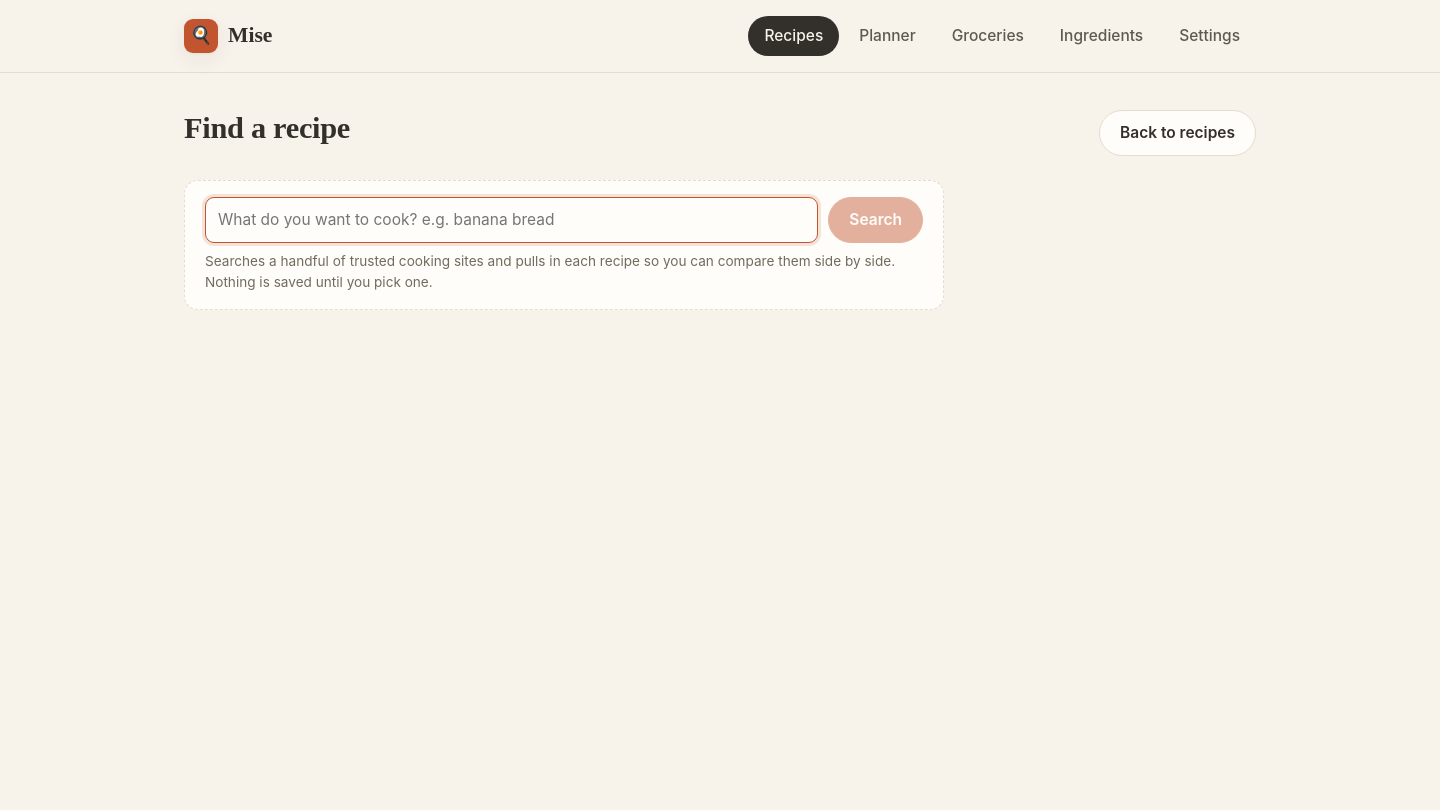
Test: RecipeSearchPage › dashes out stats the source page never stated
Type "banana bread" into the field with placeholder "What do you want to cook? e.g. banana bread". click: (512,220)
box: [205,197,818,243]
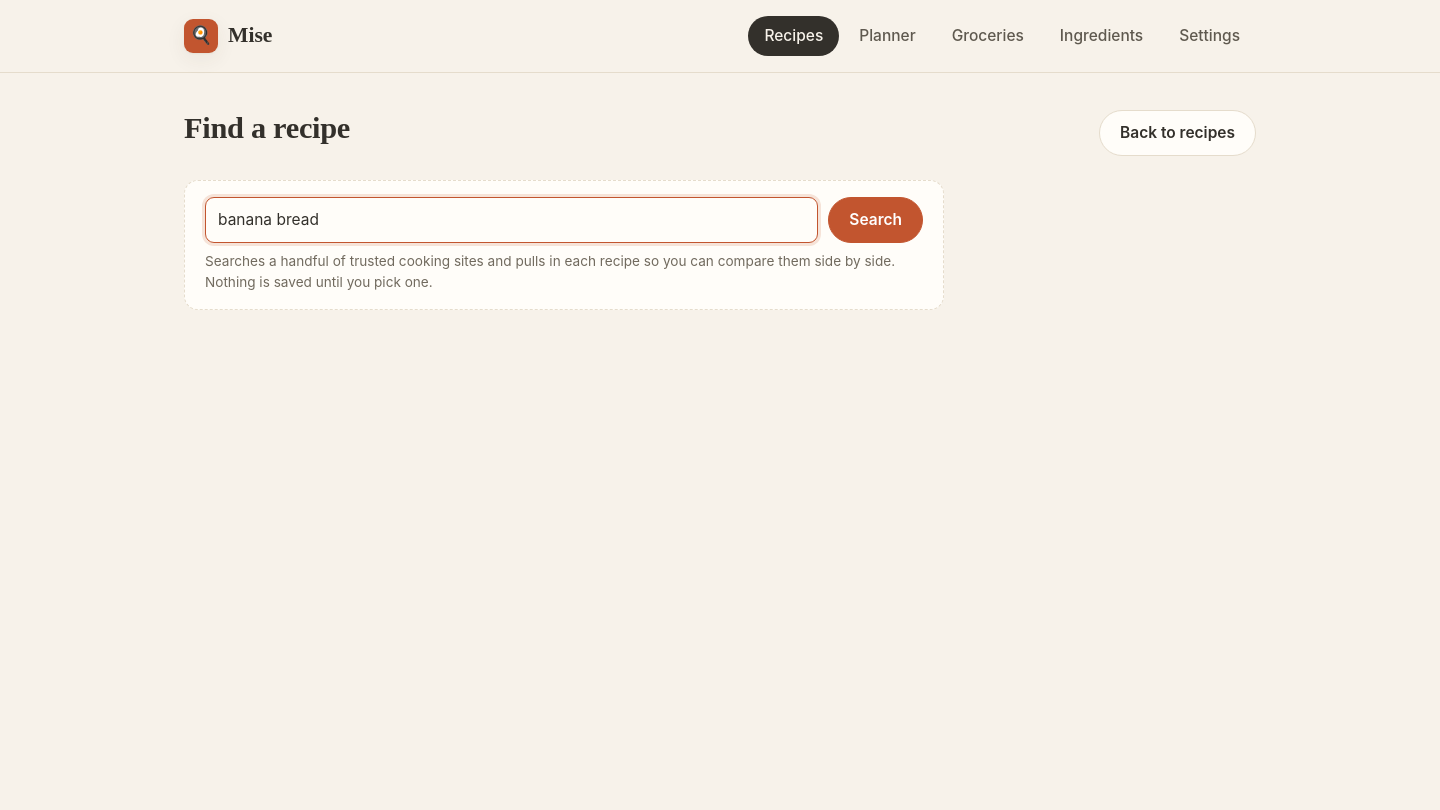
Click the button "Search". click: (876,220)
box: [828,197,923,243]
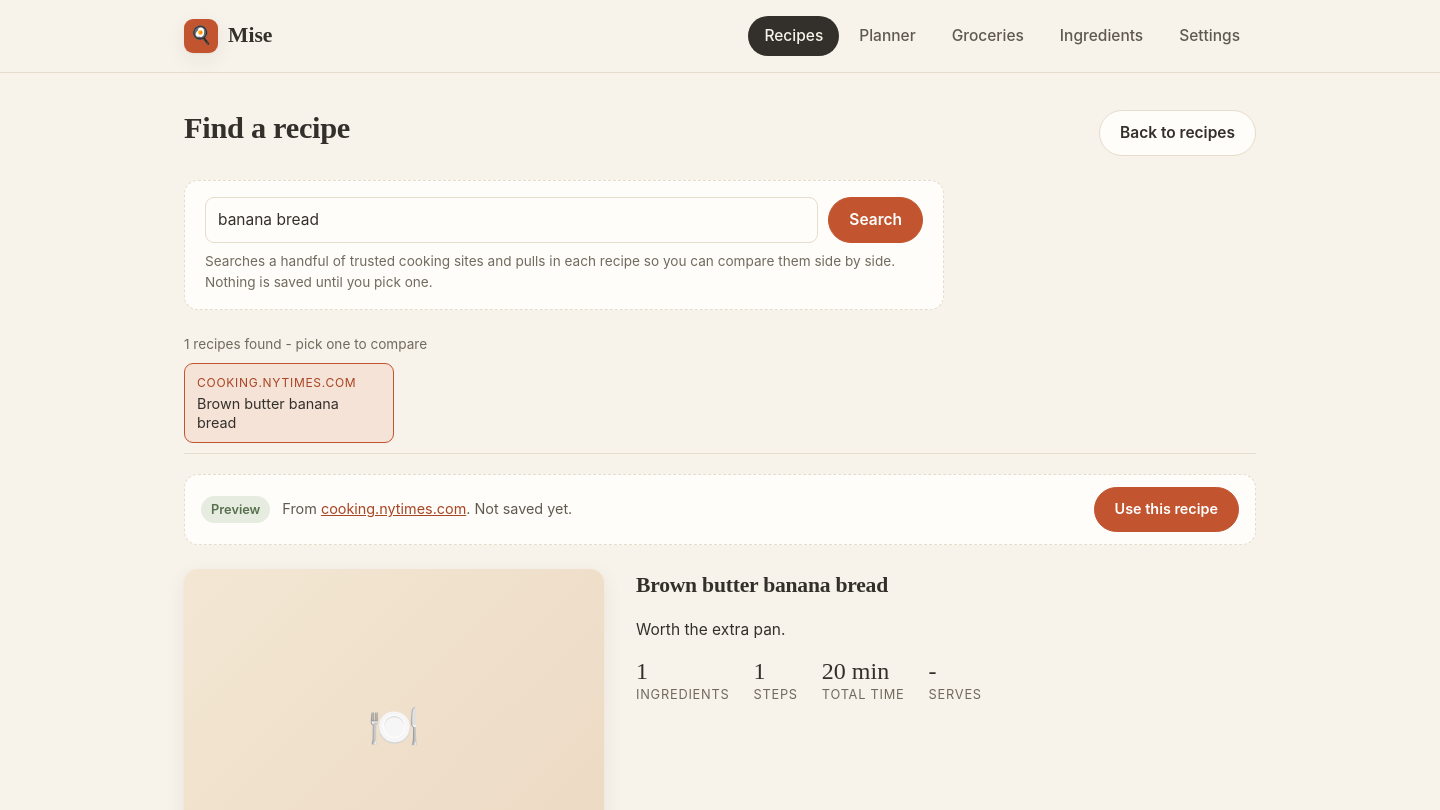
Check: the text "20 min" is shown, box [822,658,889,684]
